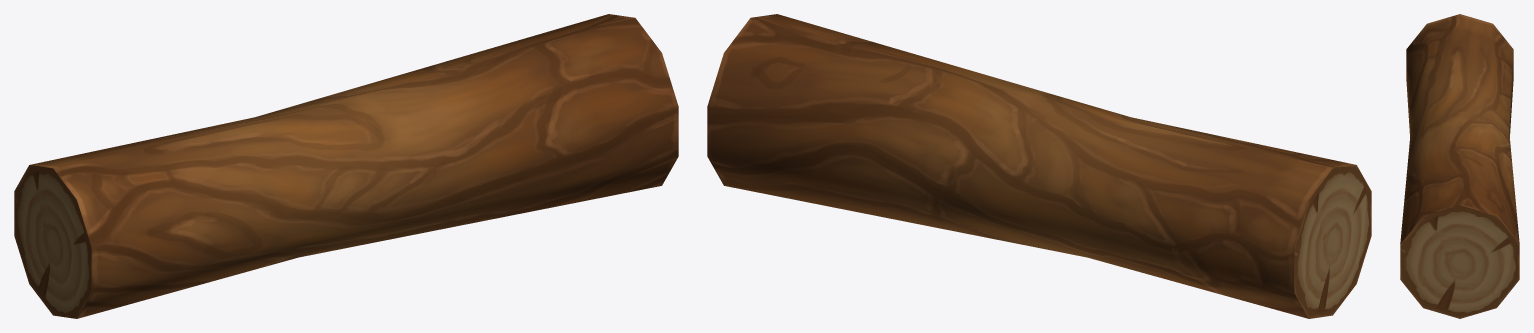
Rendered from Log_1.FBX.
3 renders of one model, left to right at view 1: azimuth 30°, elevation 25°; view 2: azimuth 150°, elevation 25°; view 3: azimuth 270°, elevation 25°, orthographic. The views are drawn at different scales.
Visible parts, largest first — view 1: Log_1; view 2: Log_1; view 3: Log_1.
Part boxes in pixels (x1,y1,x2,y2): Log_1: (14,14,678,318); Log_1: (707,14,1371,318); Log_1: (1400,14,1519,318).
Size of what is drawn, in the model's own units: 242 by 62.09 by 65.28.
